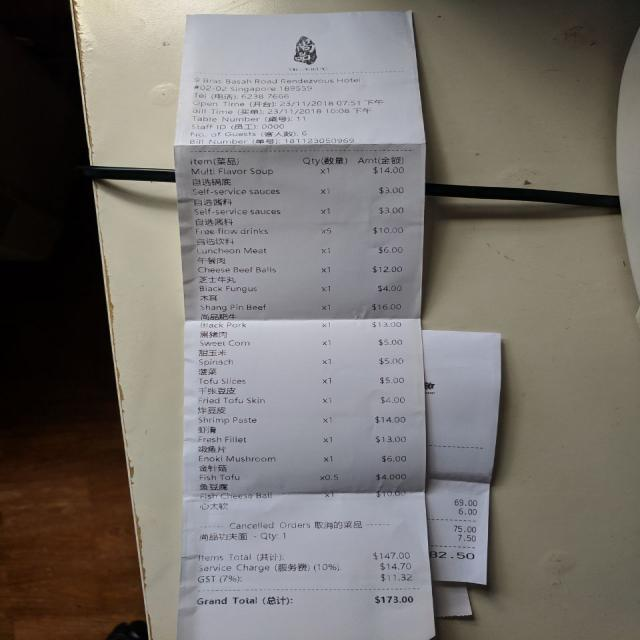bill_region: (180, 164, 418, 608)
